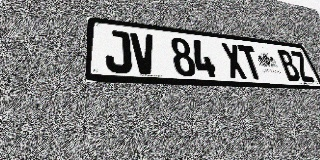4: (189, 39, 217, 78)
8: (169, 37, 197, 77)
B: (276, 49, 302, 82)
J: (105, 29, 132, 74)
T: (237, 45, 265, 80)
V: (130, 32, 158, 75)
X: (220, 43, 248, 79)
Z: (289, 51, 316, 82)
